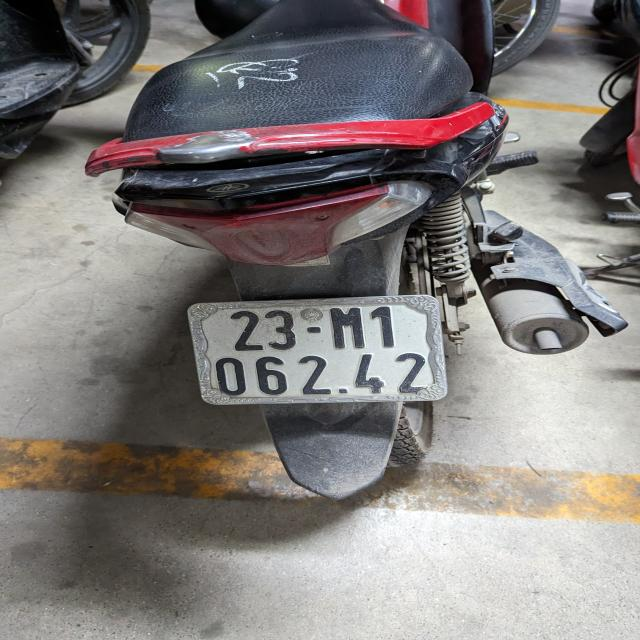License: (186, 294, 448, 406)
